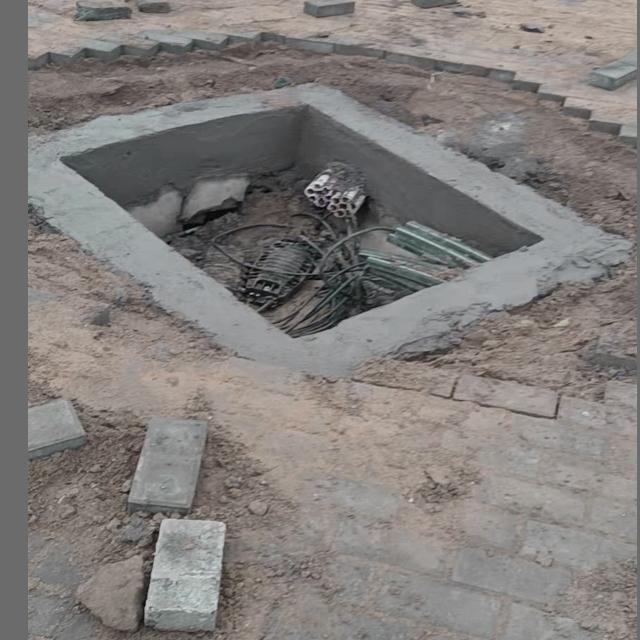lose: (48, 62, 612, 341)
